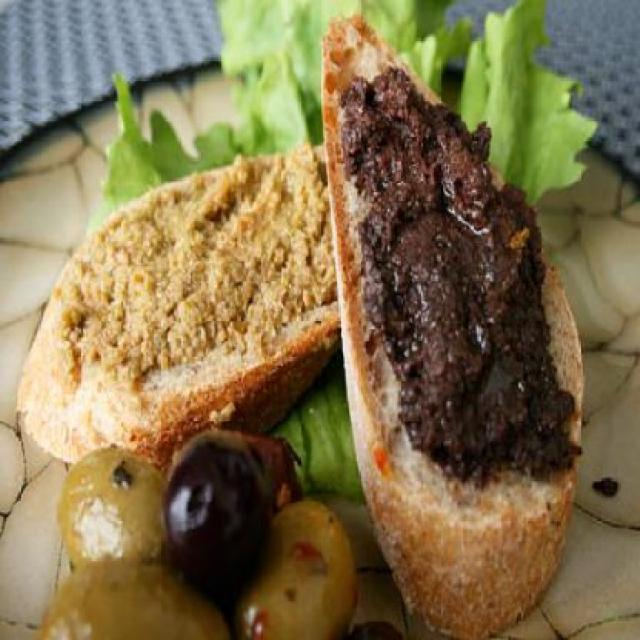Spread: (348, 72, 590, 485)
